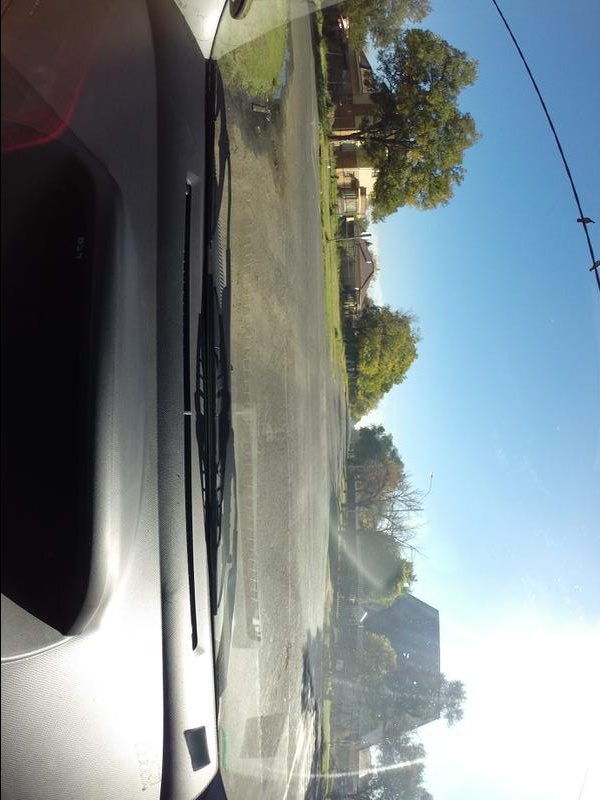pothole: (281, 642, 291, 675), (270, 139, 278, 180)
